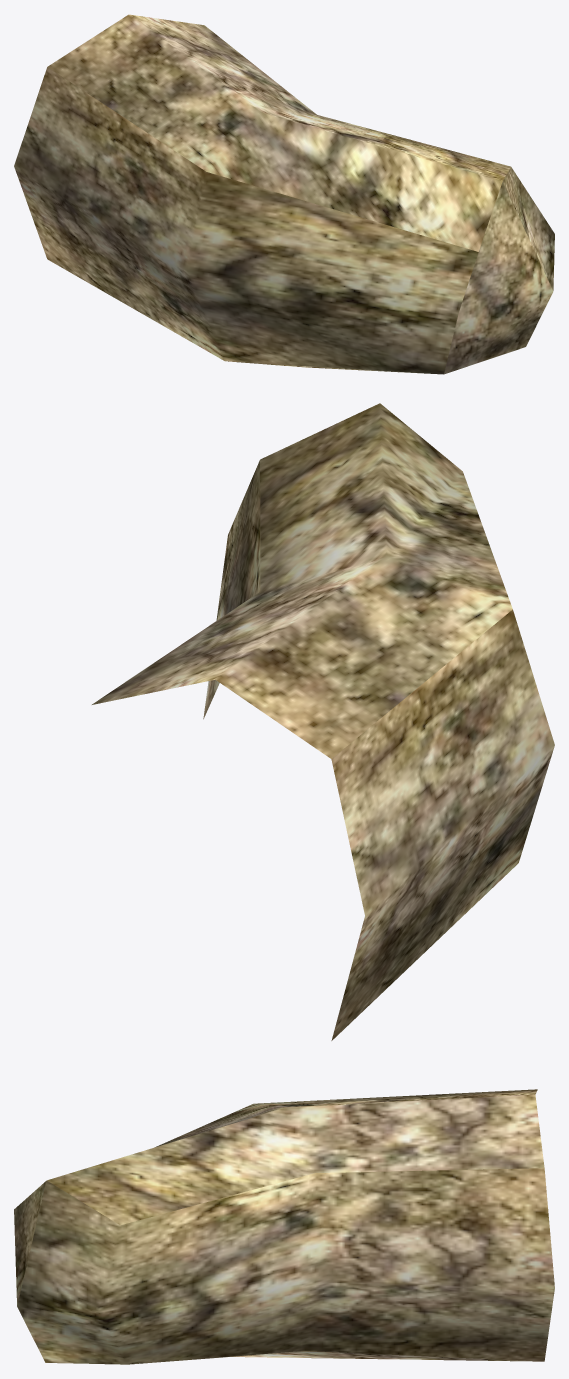
3 renders of one model, top to bottom at view 1: azimuth 30°, elevation 25°; view 2: azimuth 150°, elevation 25°; view 3: azimuth 270°, elevation 25°, orthographic. The views are drawn at different scales.
Visible parts, largest first — view 1: model_Object29; view 2: model_Object29; view 3: model_Object29.
Part boxes in pixels (x1,y1,x2,y2): model_Object29: [14, 14, 554, 374]; model_Object29: [92, 403, 554, 1040]; model_Object29: [14, 1089, 554, 1364].
Bounding box in the file's own units: 1.14 × 0.8915 × 1.67.
1 material, 1 textured.
